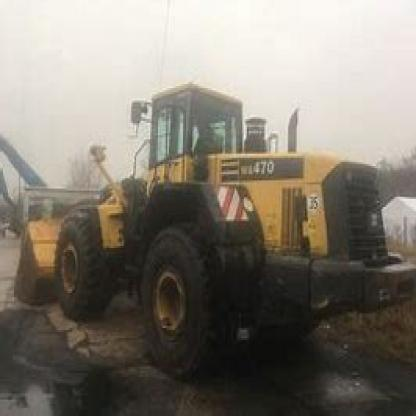bull_dozer/loader/grader: (13, 70, 414, 381)
